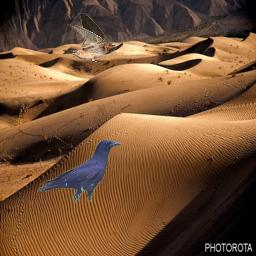Crow: (37, 139, 121, 207)
Swallow: (62, 13, 116, 63)
